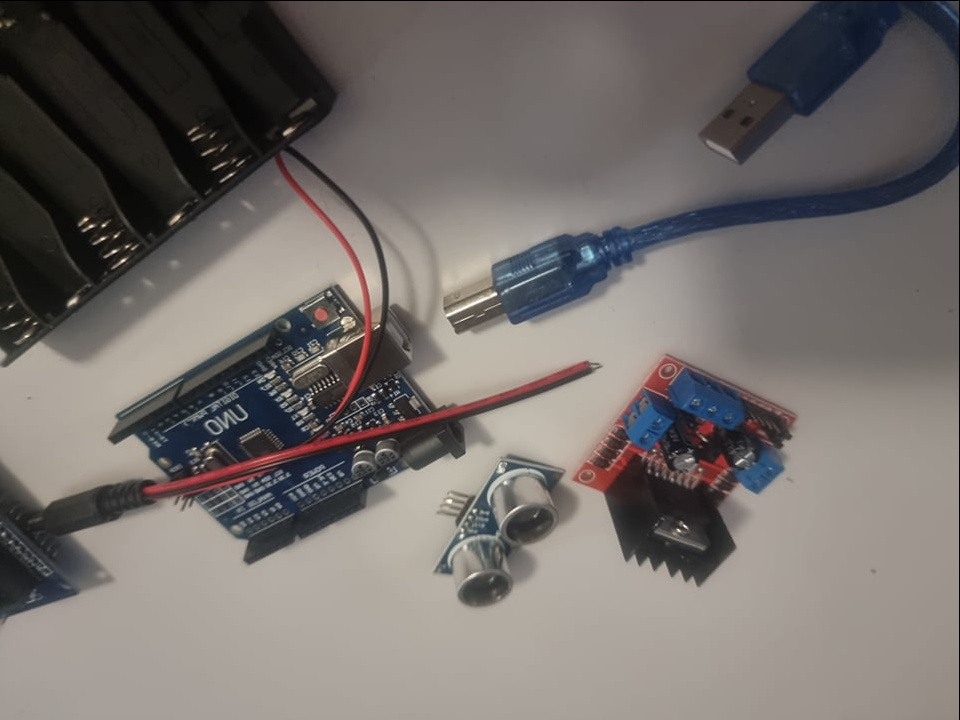BATTERY BOX: (1, 0, 341, 369)
MOTOR: (580, 351, 809, 595)
SENSOR: (435, 457, 568, 621)
UNO R3: (111, 282, 468, 565)
